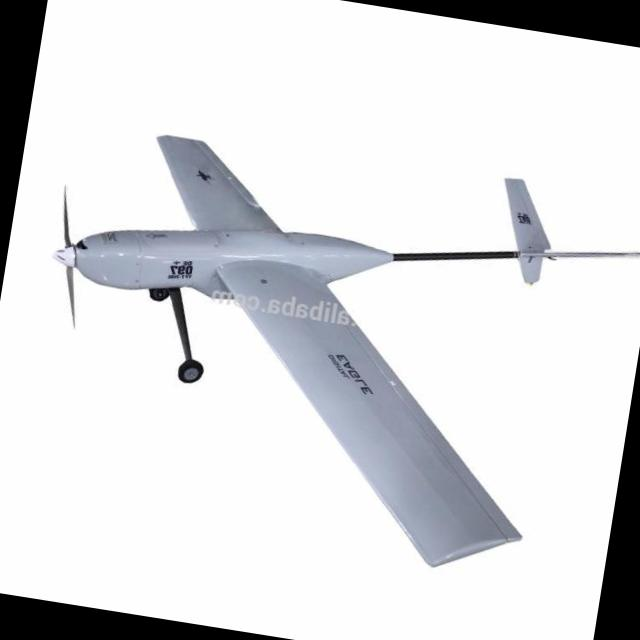UAV: (67, 102, 627, 507)
